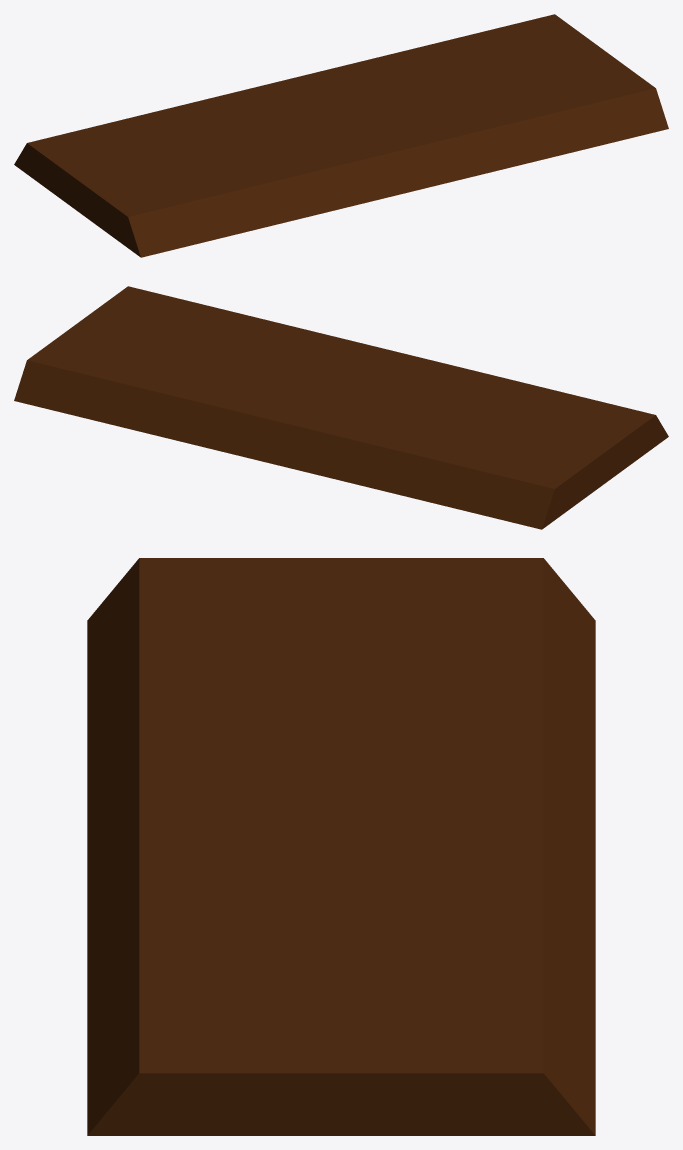
File: PruebTrack.fbx
3 renders of one model, top to bottom at view 1: azimuth 30°, elevation 25°; view 2: azimuth 150°, elevation 25°; view 3: azimuth 270°, elevation 25°, orthographic. The views are drawn at different scales.
Visible parts, largest first — view 1: Cube; view 2: Cube; view 3: Cube.
Boxes of the visible parts, left/top/right/bottom form: Cube: left=14, top=14, right=668, bottom=257; Cube: left=14, top=286, right=668, bottom=529; Cube: left=87, top=558, right=595, bottom=1135.
Bounding box in the file's own units: 603 × 34.05 × 251.
